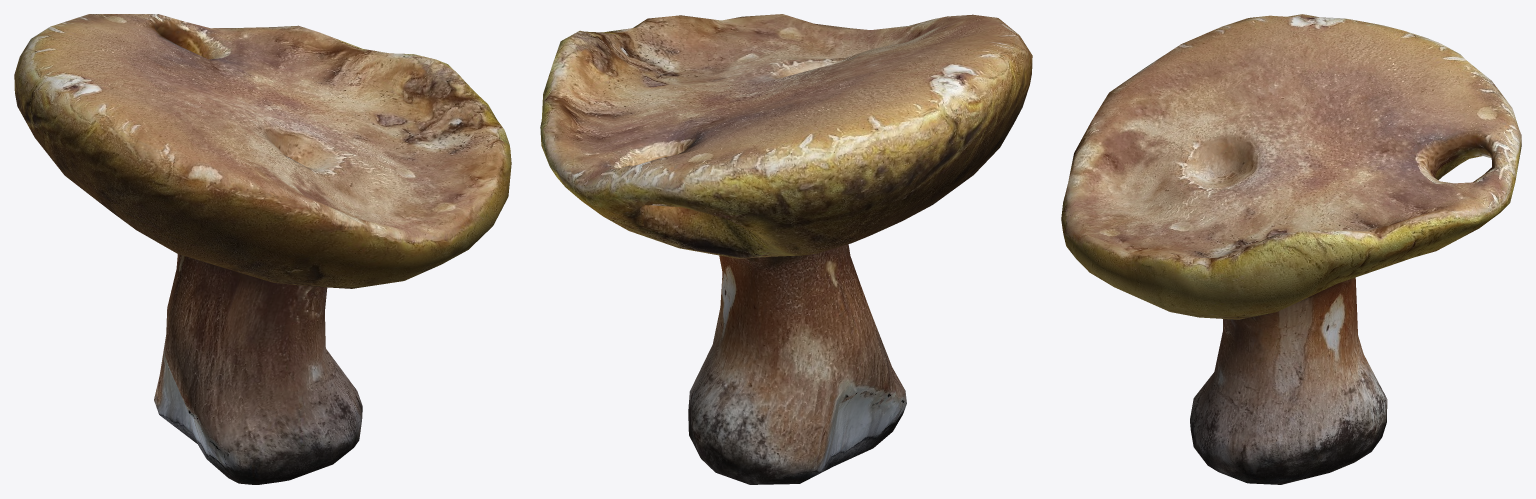
3 views of the same model, side by side, from view 1: azimuth 30°, elevation 25°; view 2: azimuth 150°, elevation 25°; view 3: azimuth 270°, elevation 25° (orthographic). The views are drawn at different scales.
Visible parts, largest first — view 1: mushroom_07; view 2: mushroom_07; view 3: mushroom_07.
Part boxes in pixels (x1,y1,x2,y2): mushroom_07: (14, 14, 511, 484); mushroom_07: (540, 14, 1032, 484); mushroom_07: (1061, 14, 1521, 484).
Size of the model in its own units: 84.8 by 79.49 by 89.76.
